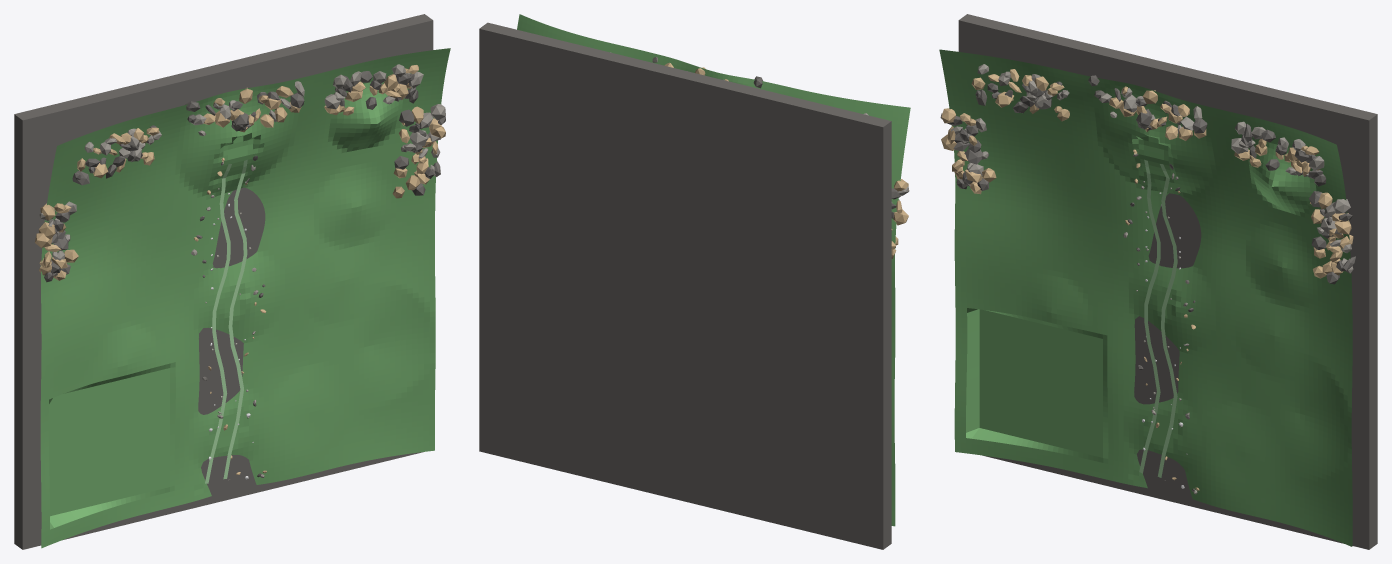
File: compact_terrain.glb
The picture shows the model from 3 angles, left to right: view 1: azimuth 30°, elevation 25°; view 2: azimuth 150°, elevation 25°; view 3: azimuth 330°, elevation 25°; orthographic projection.
Visible parts, largest first — view 1: SM_Terrain_Repaired_800m, SM_Diorama_Cut_Base, Final_Carved_Bank_Cover_Right, Final_Carved_Bank_Cover_Left; view 2: SM_Diorama_Cut_Base, SM_Terrain_Repaired_800m; view 3: SM_Terrain_Repaired_800m, SM_Diorama_Cut_Base, Final_Carved_Bank_Cover_Right, Final_Carved_Bank_Cover_Left.
Boxes of the visible parts, box(x1,y1,x2,y2) form: SM_Terrain_Repaired_800m: box(40, 48, 450, 548); SM_Diorama_Cut_Base: box(14, 14, 433, 549); Final_Carved_Bank_Cover_Right: box(223, 159, 247, 479); Final_Carved_Bank_Cover_Left: box(205, 164, 231, 483); SM_Diorama_Cut_Base: box(479, 22, 891, 549); SM_Terrain_Repaired_800m: box(517, 14, 910, 526); SM_Terrain_Repaired_800m: box(939, 49, 1352, 546); SM_Diorama_Cut_Base: box(958, 14, 1377, 549); Final_Carved_Bank_Cover_Right: box(1157, 164, 1177, 477); Final_Carved_Bank_Cover_Left: box(1139, 159, 1160, 473).
Size of the model in its own units: 833 by 830 by 124.
